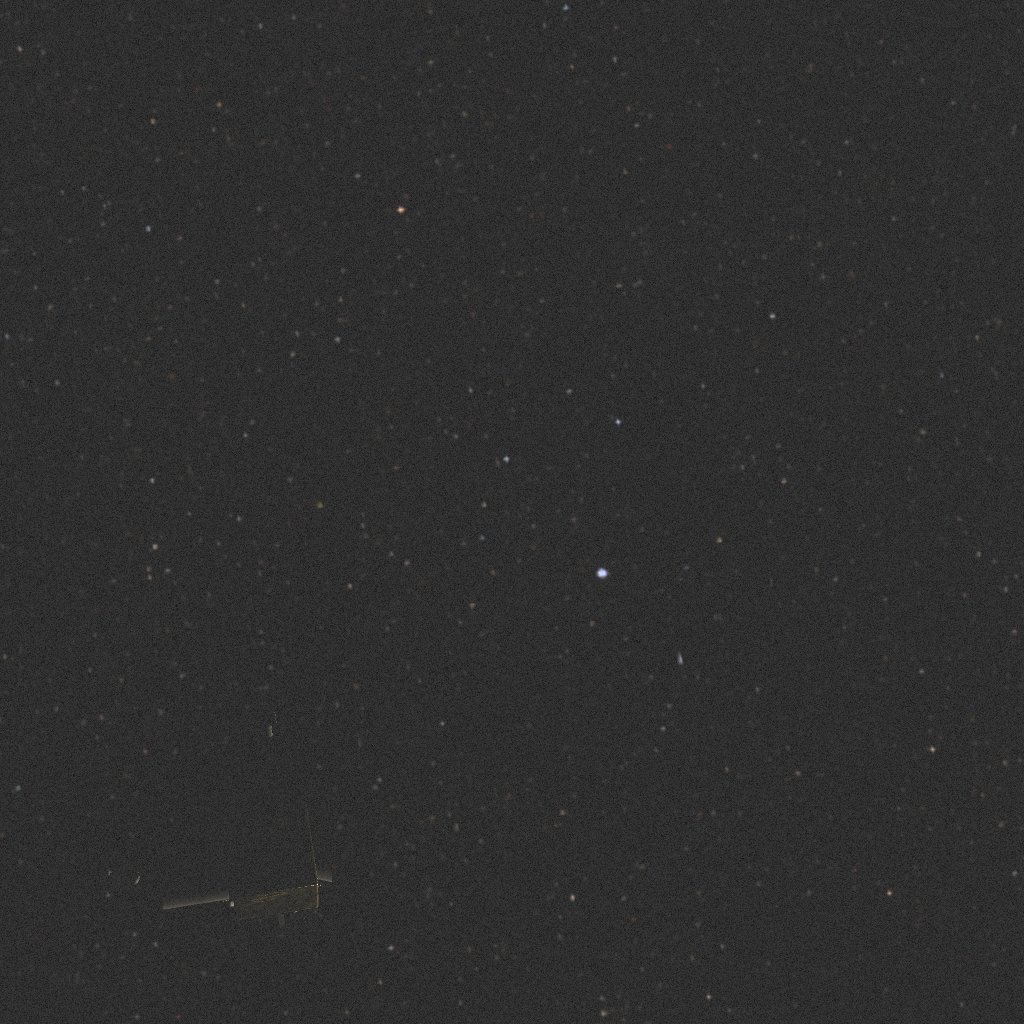earth_observation_sat_1: (108, 710, 334, 928)
